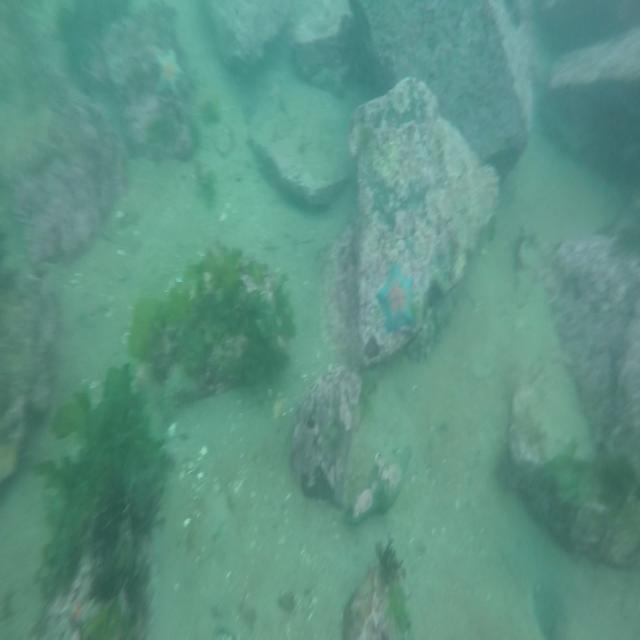starfish: (372, 266, 418, 329), (153, 46, 187, 98)
